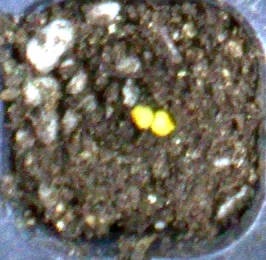pepper seed: (62, 42, 239, 179), (52, 38, 208, 169)
